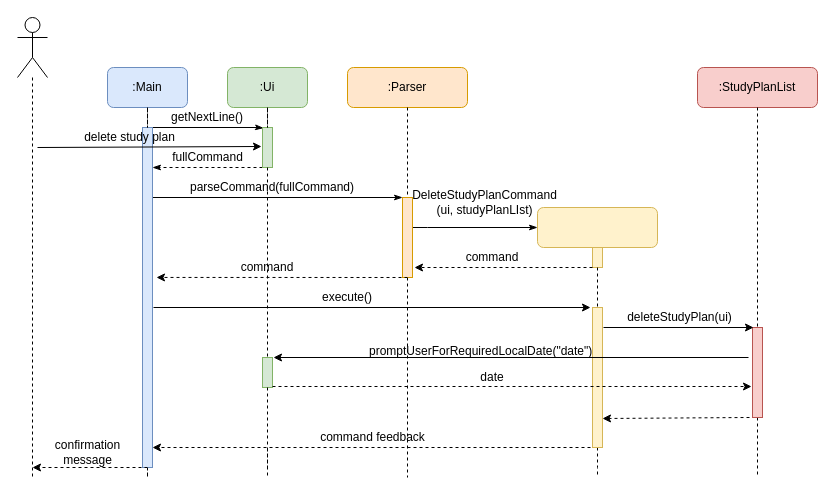
This 835x496 diagram has some shape labels left out. The box of each missing label's shape, as (x1, y1, x2, y2) in pixels:
:DeleteStudyPlan Command: (536, 206, 658, 248)
Actor: (16, 16, 48, 78)
